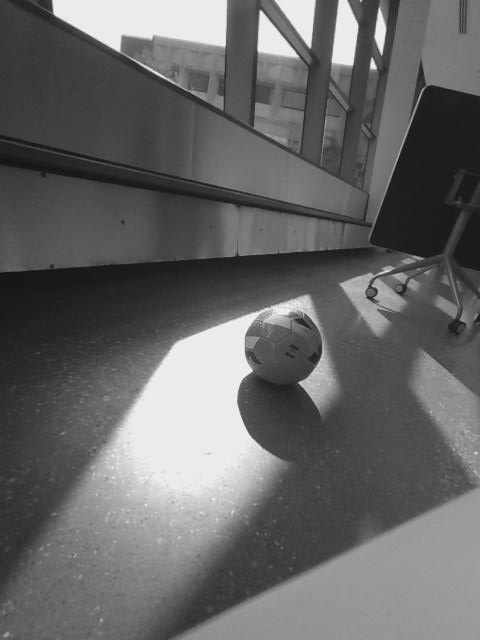ball: (241, 303, 323, 387)
